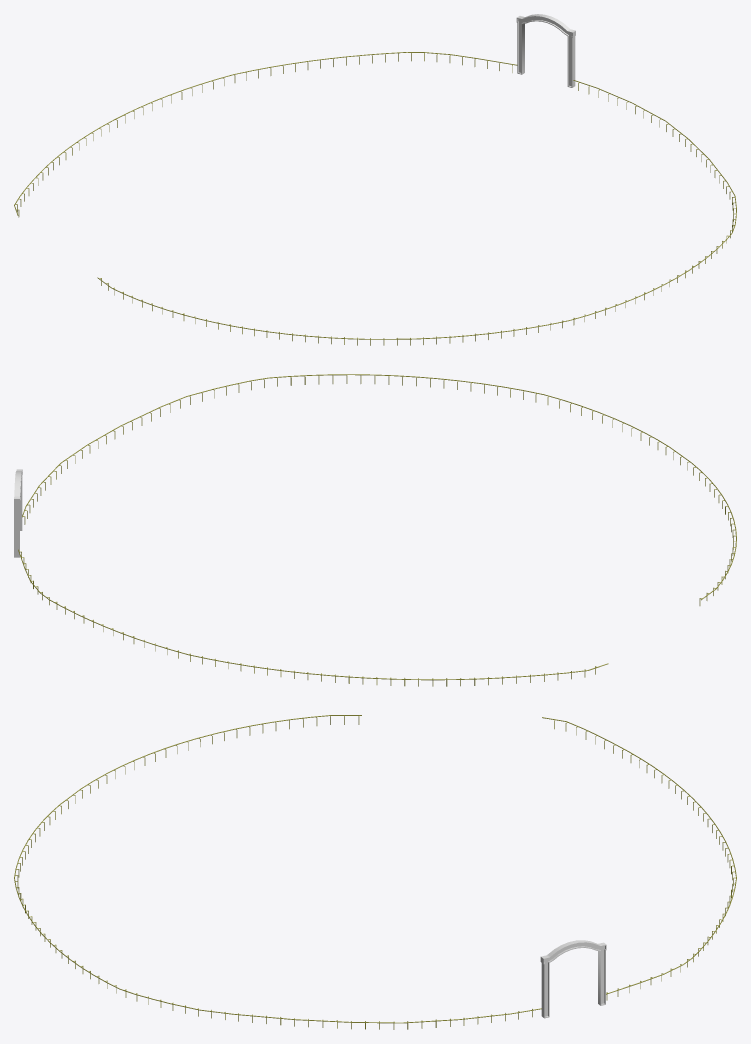
The model's file is tutorial  handrail.fbx.
3 views of the same model, one above another, from view 1: azimuth 30°, elevation 25°; view 2: azimuth 150°, elevation 25°; view 3: azimuth 270°, elevation 25° (orthographic). The views are drawn at different scales.
Visible parts, largest first — view 1: fence, gate; view 2: fence, gate; view 3: fence, gate.
Part boxes in pixels (bbox=[...]): fence: bbox=[14, 52, 736, 345]; gate: bbox=[516, 14, 575, 87]; fence: bbox=[18, 374, 736, 686]; gate: bbox=[14, 469, 22, 557]; fence: bbox=[14, 715, 736, 1029]; gate: bbox=[540, 940, 606, 1018].
Size of what is drawn, in the model's own units: 12142 by 12048 by 1252.
